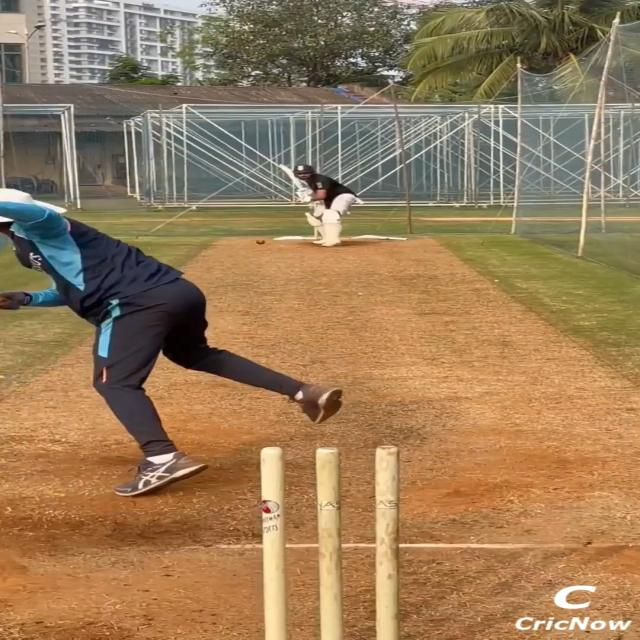ball: (256, 239, 266, 245)
stump: (258, 444, 402, 640)
